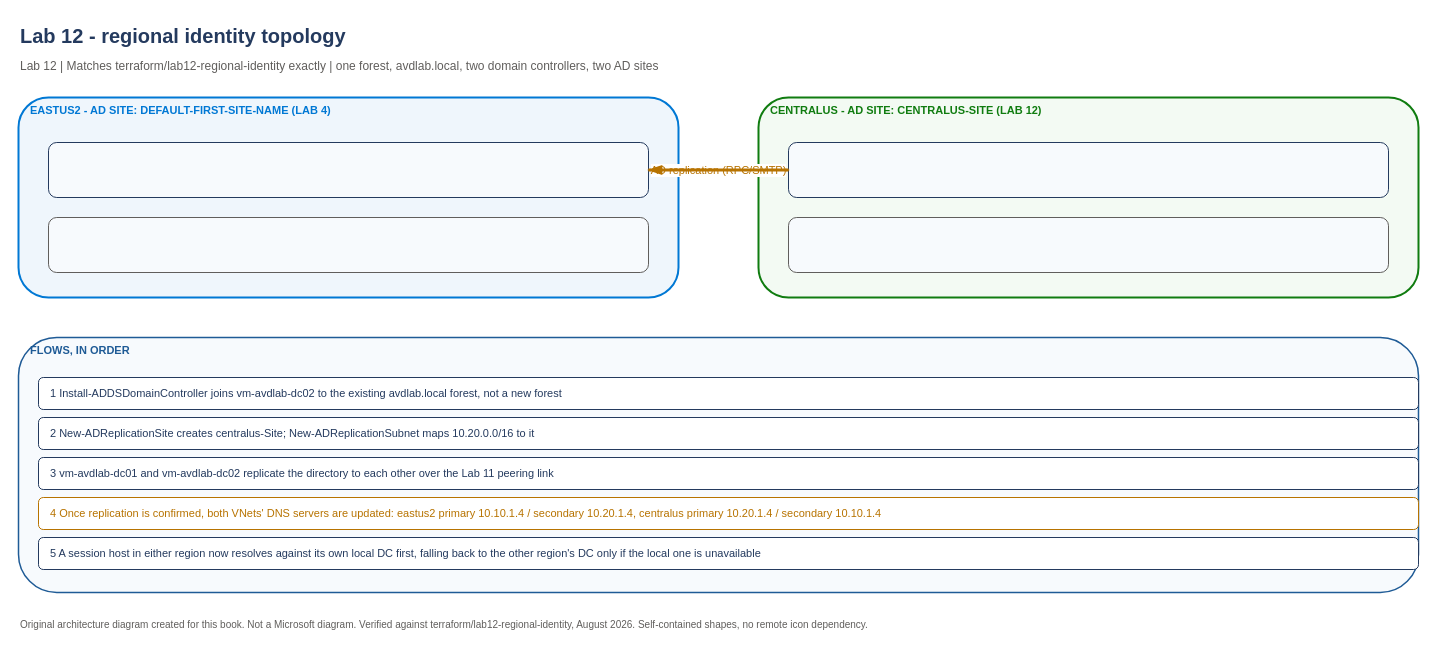
Some shapes in this 1436 by 649 pixel diagram are drawn without their labels. Here are the shapes that lost their labels. From the top down, the centre of each, then its label:
At pixel 348 170: "vm-avdlab-dc01 10.10.1.4, computer name AVDLAB-DC01".
At pixel 1088 170: "vm-avdlab-dc02 10.20.1.4, computer name AVDLAB-DC02".
At pixel 348 244: "snet-identity-lab-eus2-01 10.10.1.0/24".
At pixel 1088 244: "snet-identity-lab-cus-01 10.20.1.0/24".
